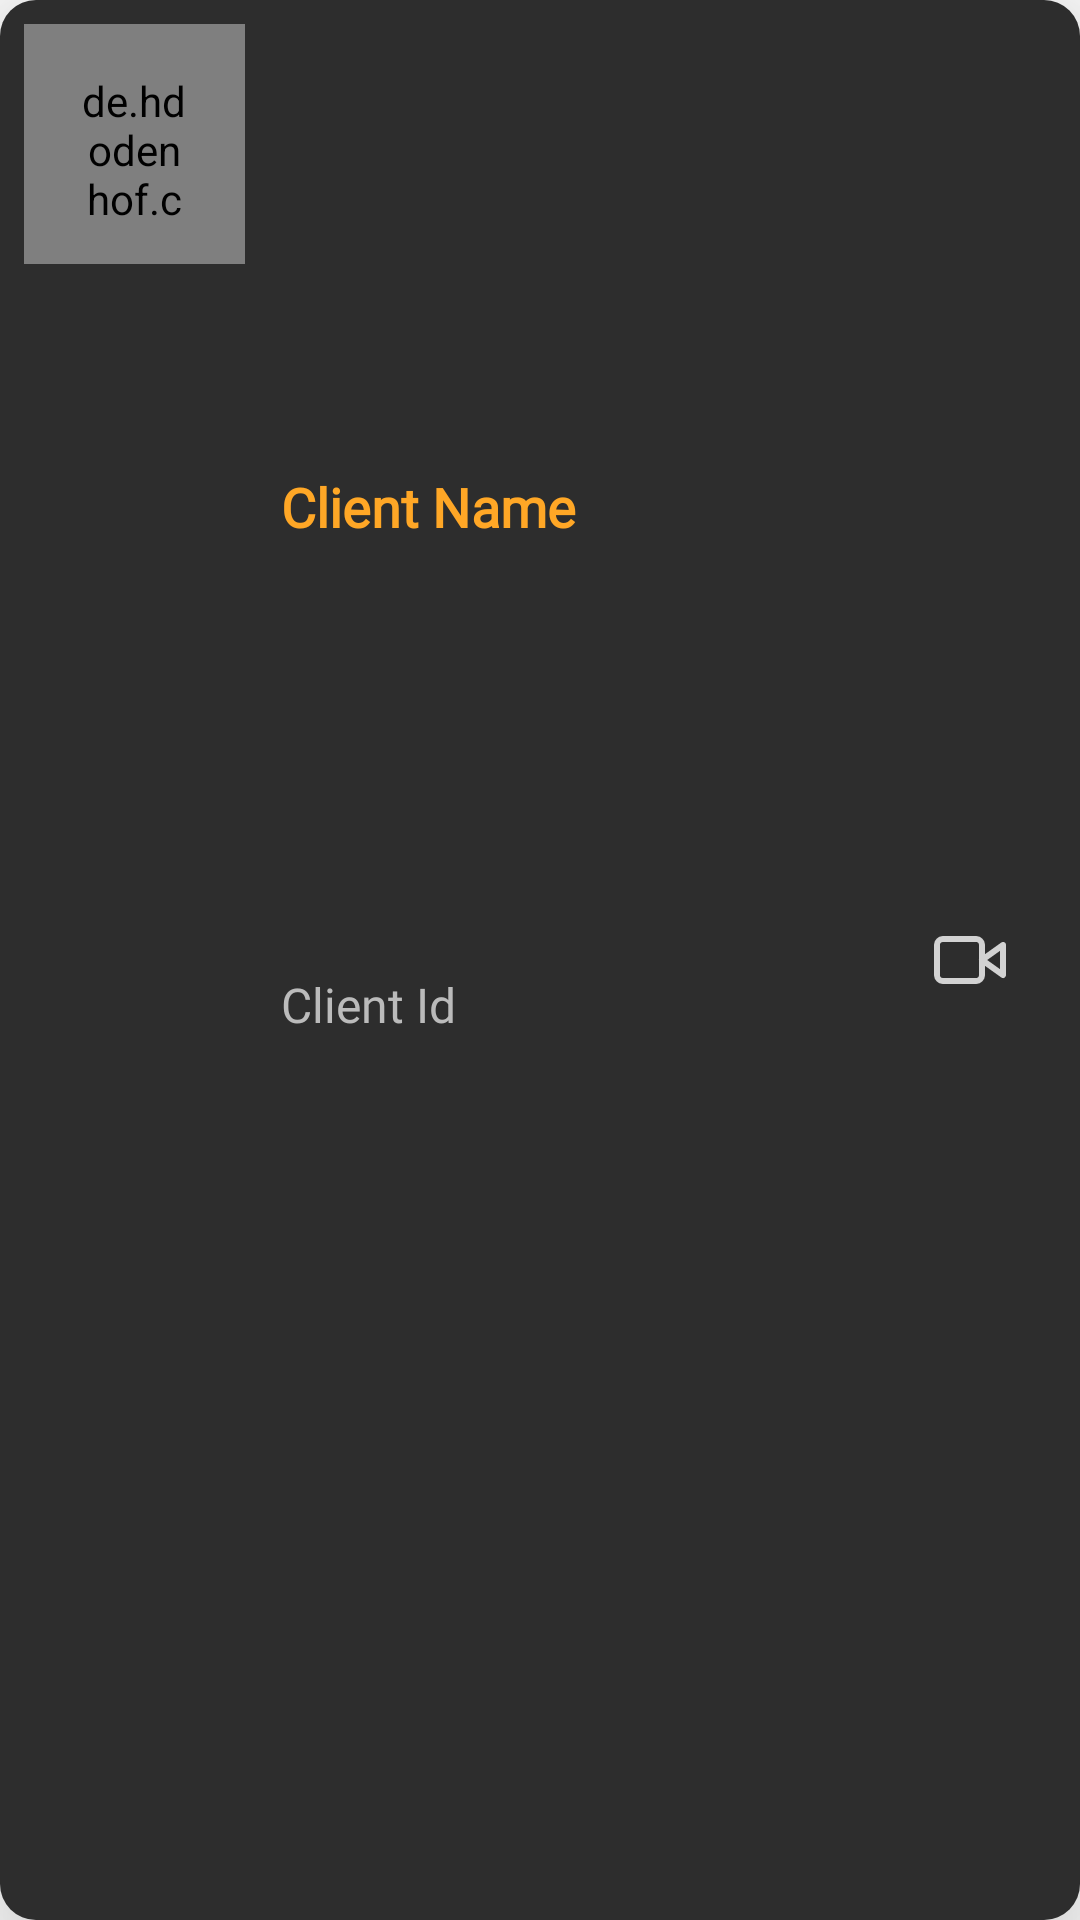

Named icons in this screenshot (1080*1920) and their centers, [x,y]:
Video Call: [970,960]
